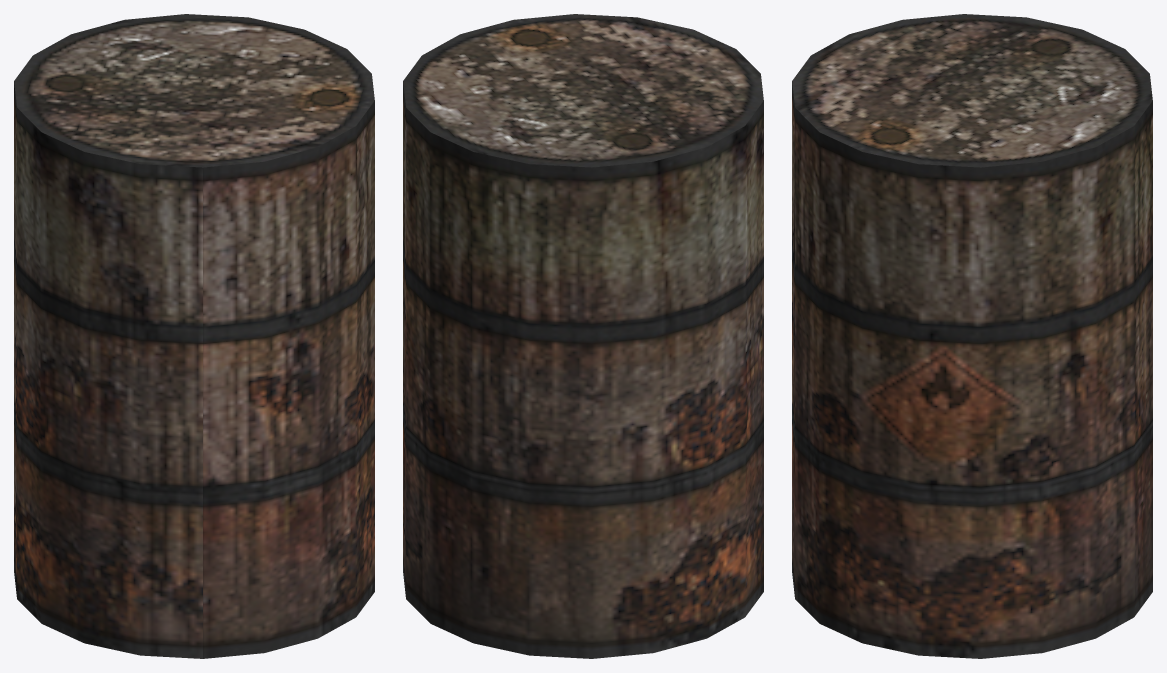
File: mine_canister.dae
3 renders of one model, left to right at view 1: azimuth 30°, elevation 25°; view 2: azimuth 150°, elevation 25°; view 3: azimuth 270°, elevation 25°, orthographic.
Parts seen in each view (by area): view 1: canister; view 2: canister; view 3: canister.
Boxes of the visible parts, left/top/right/bottom form: canister: left=14, top=14, right=374, bottom=658; canister: left=403, top=14, right=763, bottom=658; canister: left=792, top=14, right=1152, bottom=658.
Size of what is drawn, in the model's own units: 0.6503 by 0.9705 by 0.6458.
